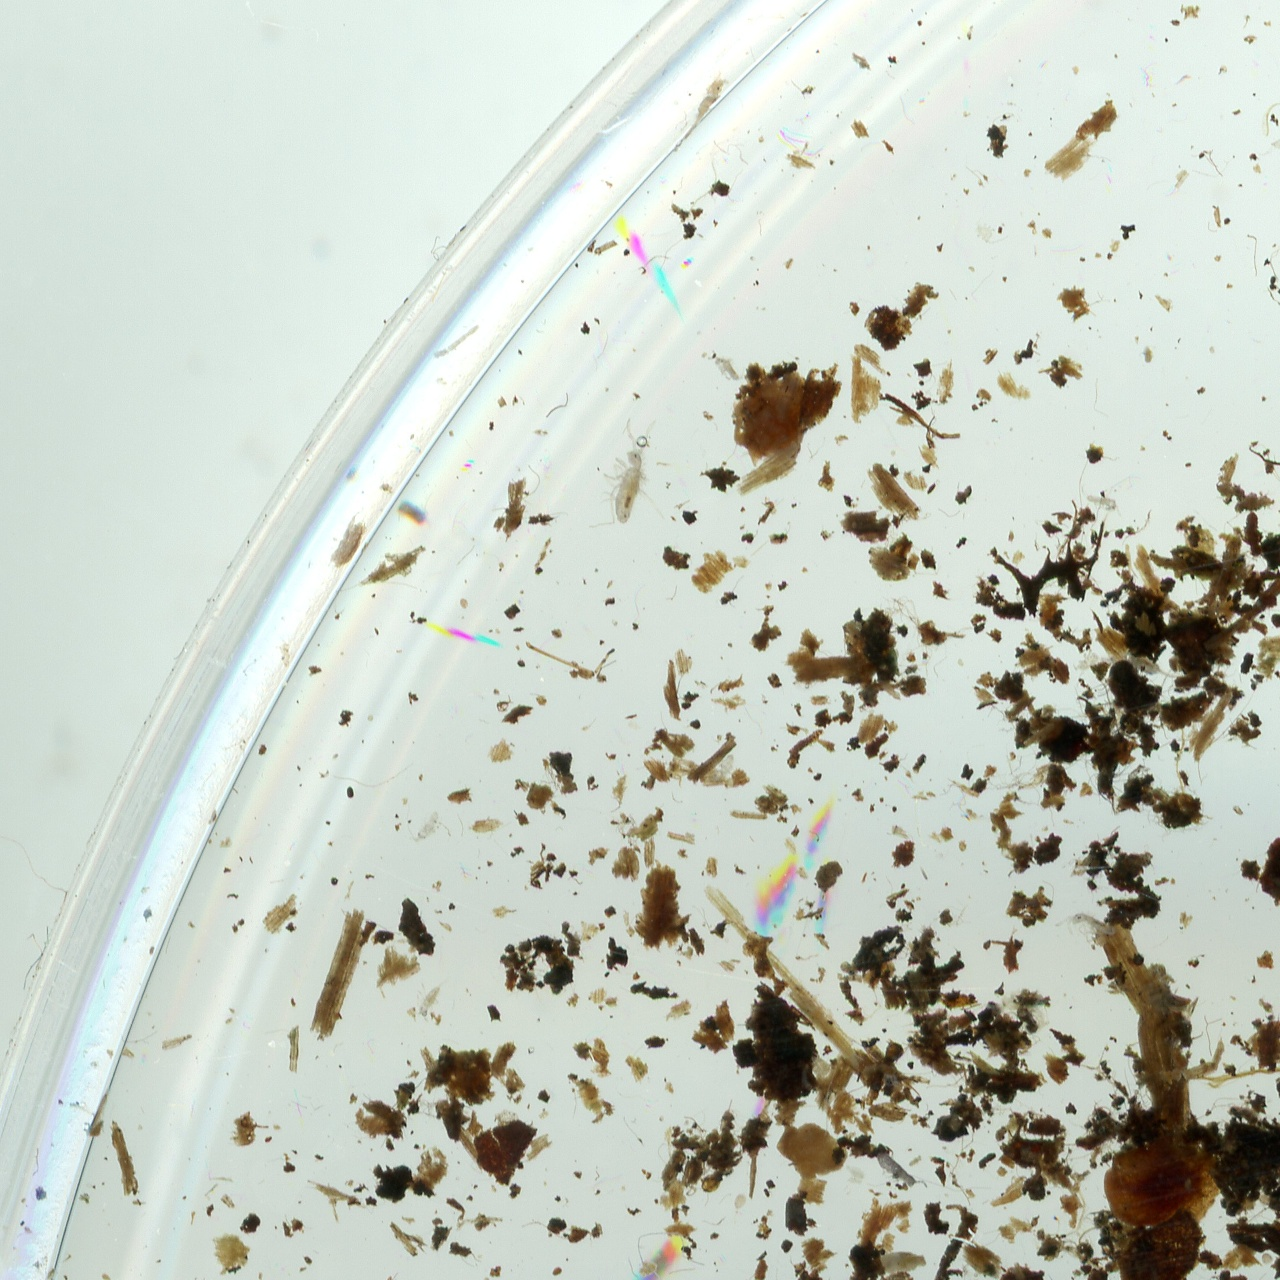arthropod: (587, 415, 669, 531), (676, 64, 737, 142), (865, 1141, 935, 1206), (1121, 647, 1185, 692), (1251, 113, 1280, 170), (415, 978, 450, 1024), (707, 348, 747, 382), (407, 808, 438, 846), (1084, 492, 1124, 513)
